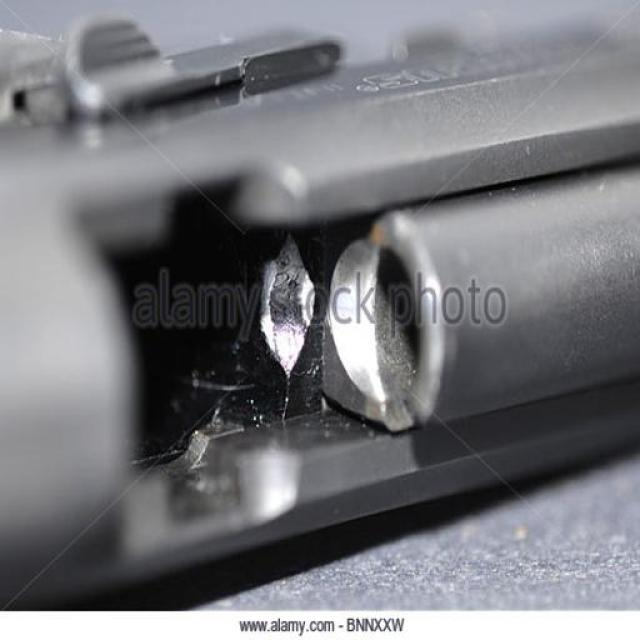pistol: (1, 14, 640, 613)
